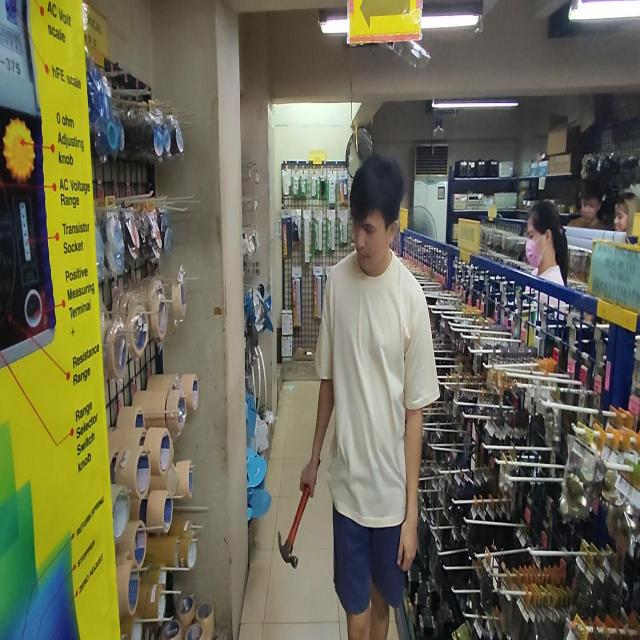hammer: (278, 457, 320, 567)
